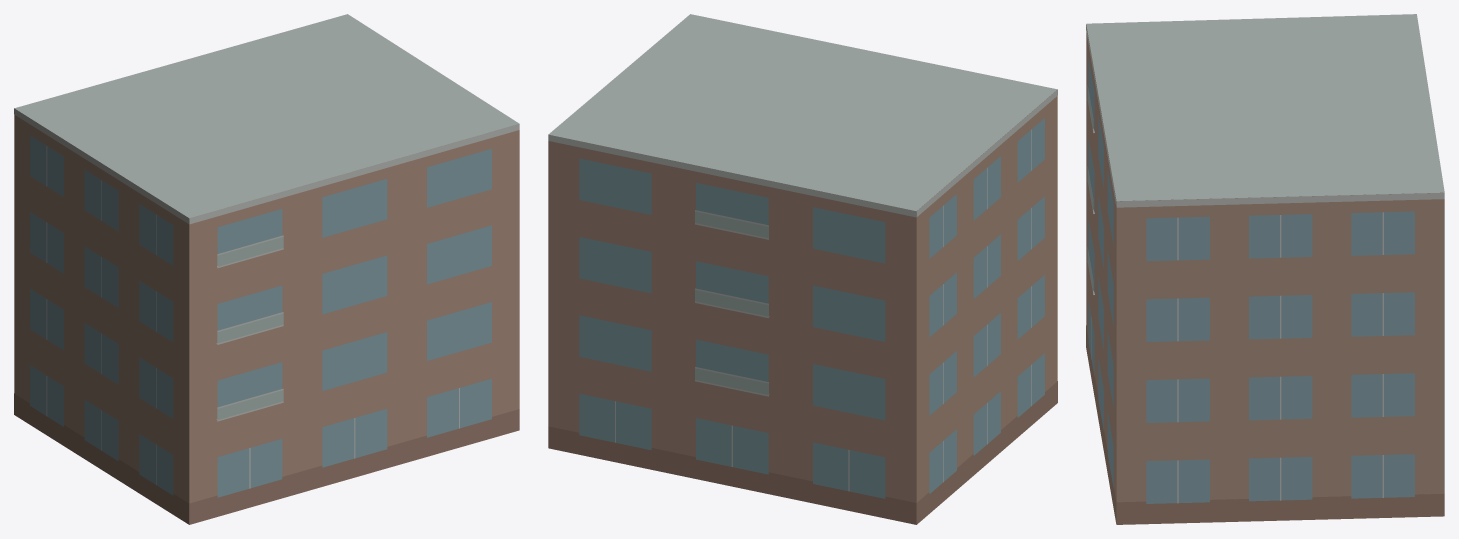
The model's file is survey-upis-32724281.glb.
3 renders of one model, left to right at view 1: azimuth 30°, elevation 25°; view 2: azimuth 150°, elevation 25°; view 3: azimuth 270°, elevation 25°, orthographic. The views are drawn at different scales.
Visible parts, largest first — view 1: survey-upis-32724281.tmp; view 2: survey-upis-32724281.tmp; view 3: survey-upis-32724281.tmp.
Part boxes in pixels (x1,y1,x2,y2): survey-upis-32724281.tmp: (14, 14, 519, 524); survey-upis-32724281.tmp: (548, 14, 1057, 524); survey-upis-32724281.tmp: (1086, 14, 1444, 524).
Bounding box in the file's own units: 15.14 × 12.2 × 12.26.
